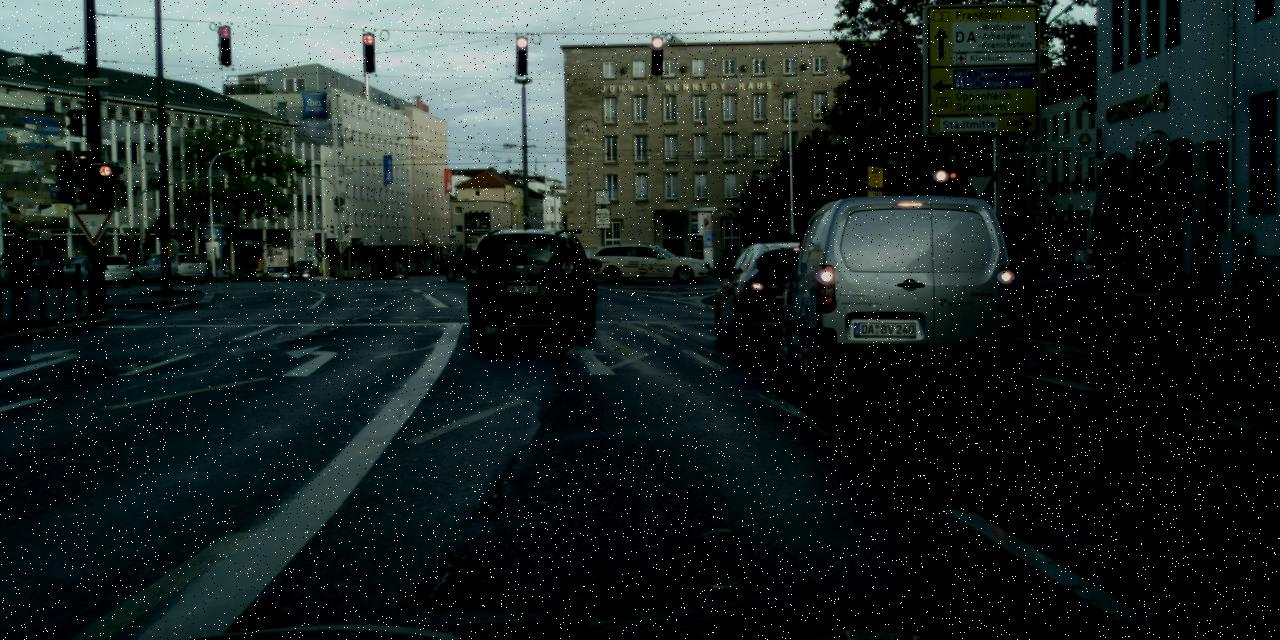ped: (1, 228, 38, 319), (743, 231, 772, 301), (417, 261, 422, 273), (432, 261, 437, 271)
